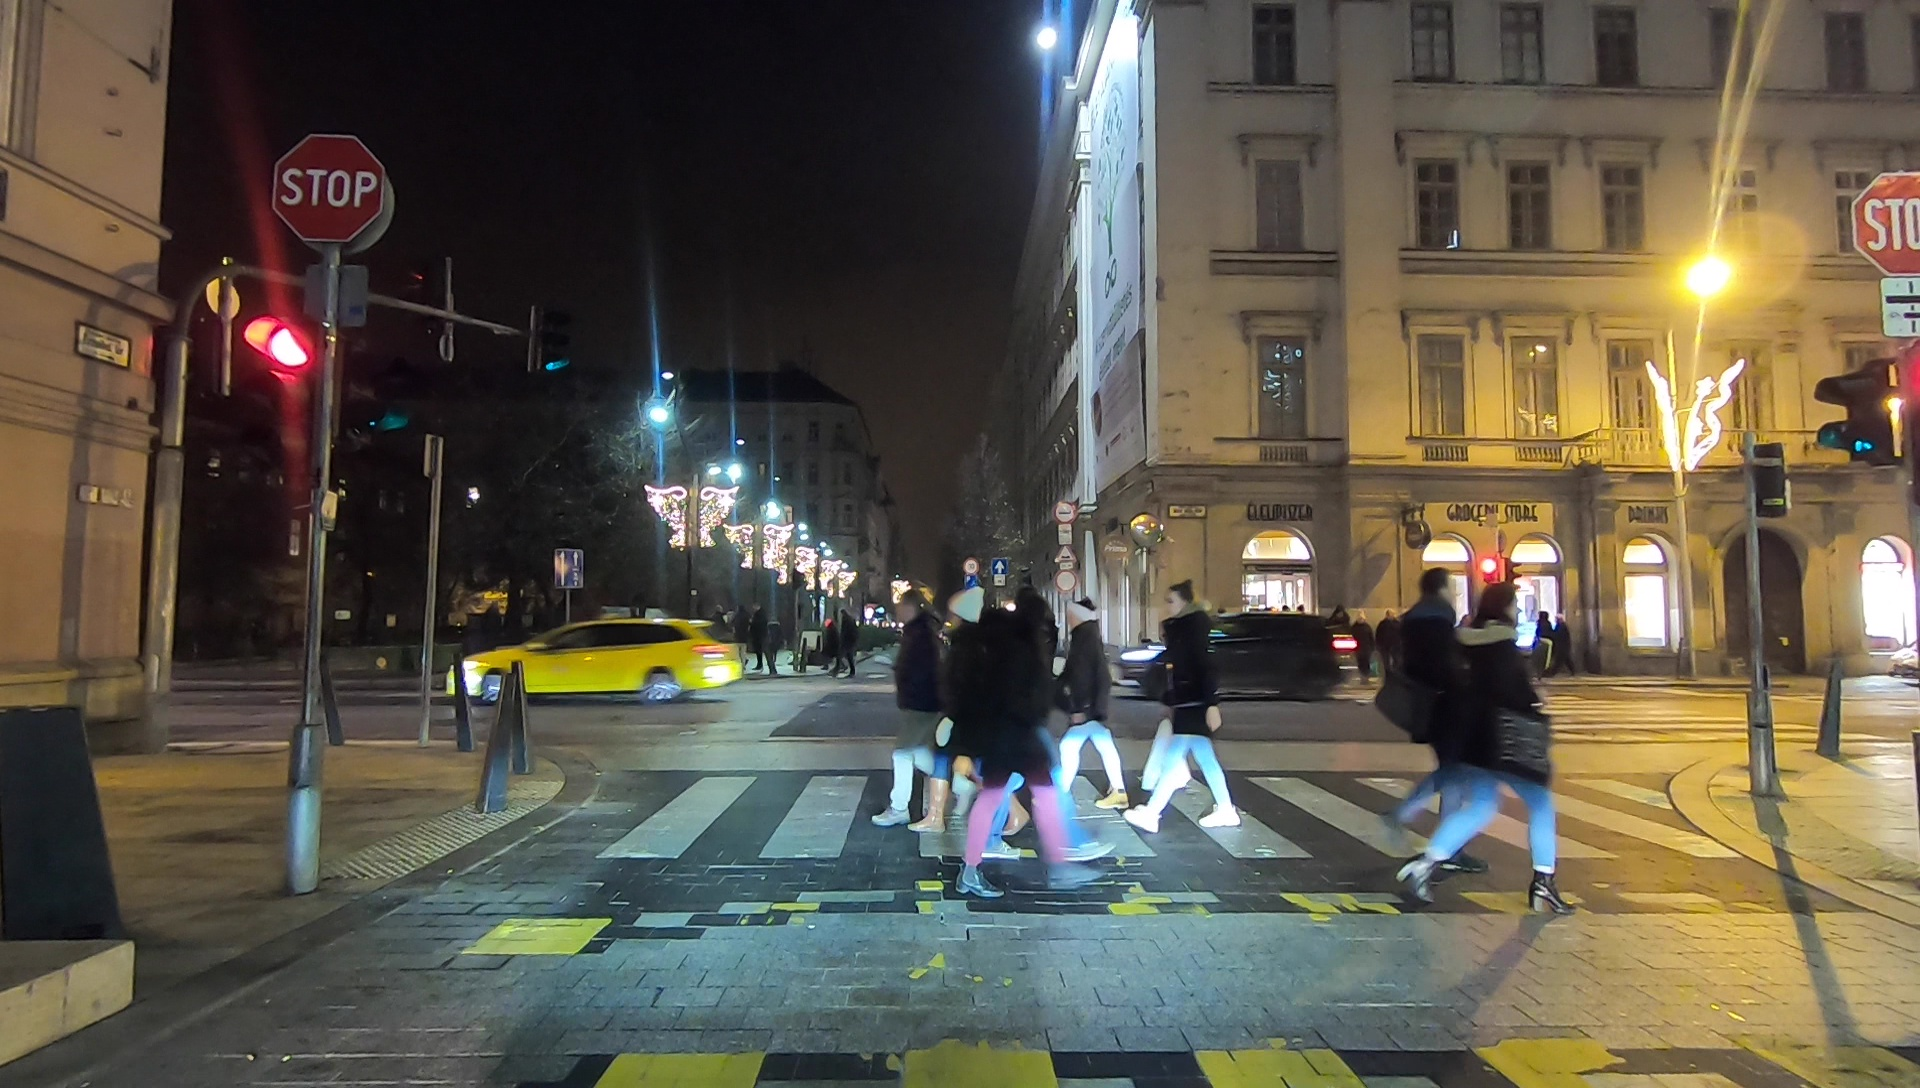person: (1430, 591, 1573, 917), (952, 599, 1093, 899), (1388, 573, 1482, 874), (1141, 586, 1236, 834), (1054, 602, 1139, 824), (888, 595, 945, 823), (741, 611, 767, 676), (767, 613, 786, 678), (841, 610, 856, 674)
